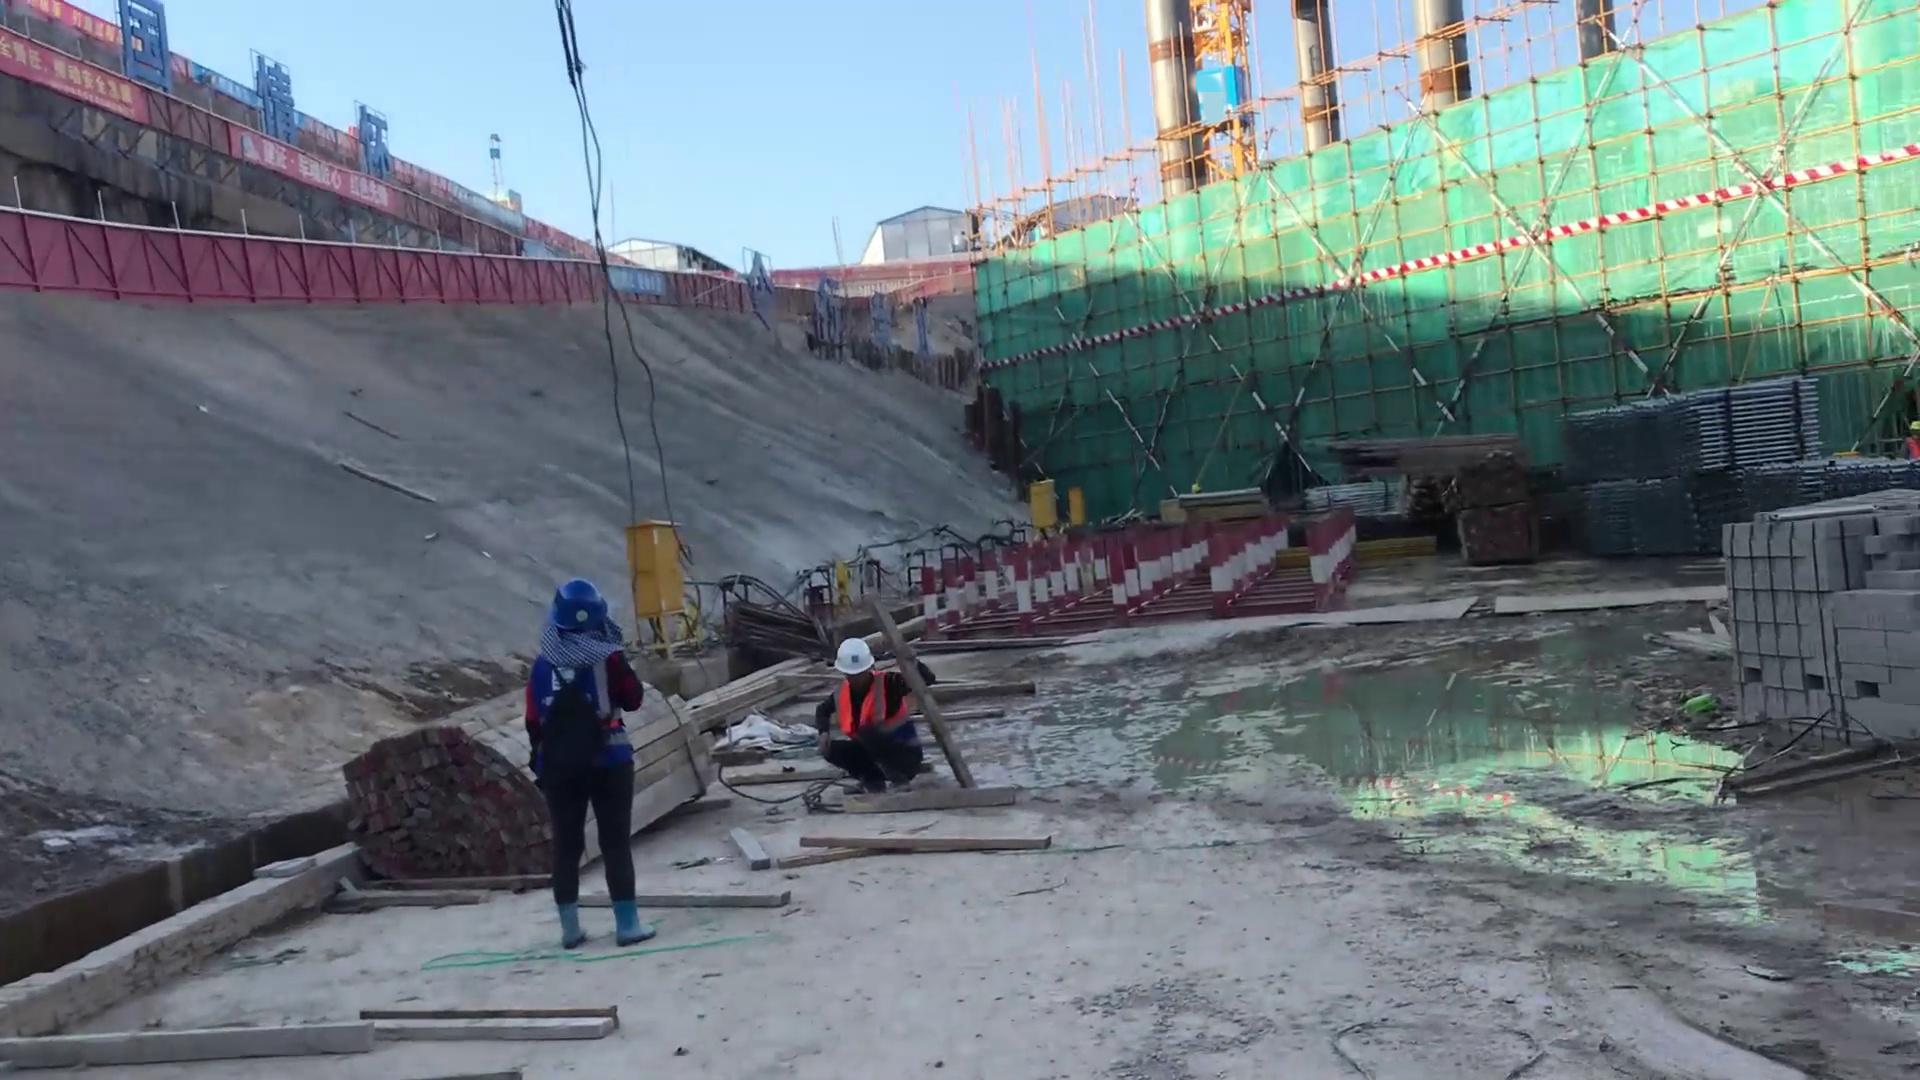board: (1701, 504, 1920, 751), (332, 708, 525, 879)
ebox: (619, 512, 689, 634), (1017, 482, 1059, 534), (1067, 486, 1086, 533)
fence: (1, 209, 445, 304), (443, 249, 764, 313)
helmet: (536, 578, 607, 646), (814, 633, 882, 681), (1190, 481, 1204, 497)
person: (510, 576, 670, 963), (803, 629, 937, 793)
scaffold: (1560, 397, 1815, 482)
slogan: (1, 54, 137, 144)
vest: (827, 685, 900, 738)
wood: (1321, 420, 1511, 475)
